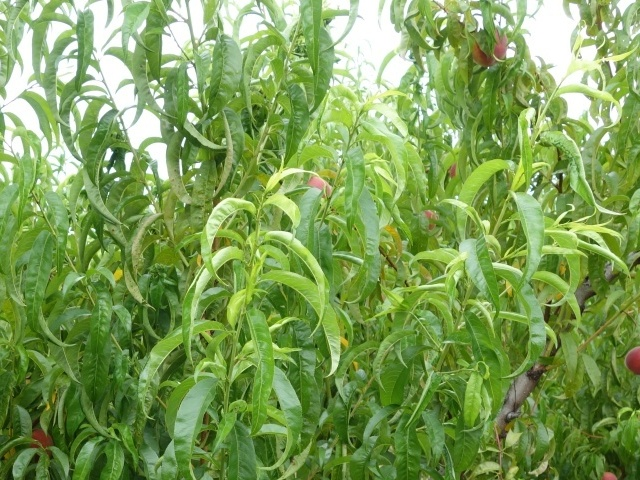peach: (467, 26, 512, 71), (23, 420, 57, 455), (306, 171, 334, 202), (624, 342, 640, 378)
